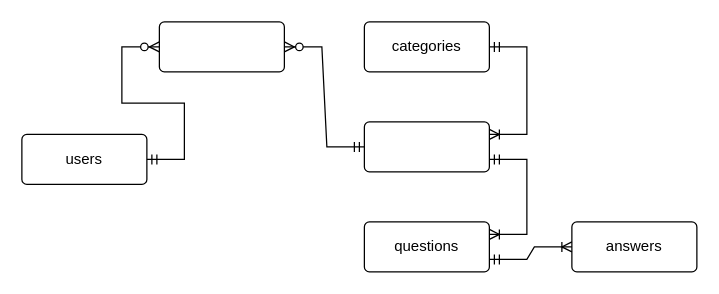
Image size: 719x294. Some labels were removed from this diagram. Here are the shapes that lost their labels. From the top down, the centre of each, then its label:
At point (221, 46): "progress".
At point (426, 146): "tests".
